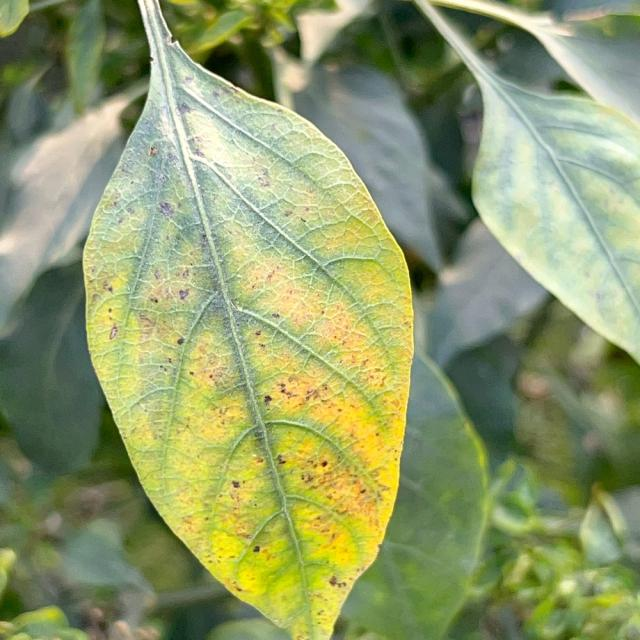Chilli_Bacterial_Spot: (80, 12, 418, 637), (154, 198, 177, 221), (274, 379, 295, 401), (325, 572, 348, 592), (105, 322, 122, 344), (174, 285, 193, 304), (144, 142, 160, 160), (273, 451, 289, 469), (259, 391, 275, 408), (228, 477, 244, 493), (316, 457, 332, 472), (173, 333, 188, 349)
